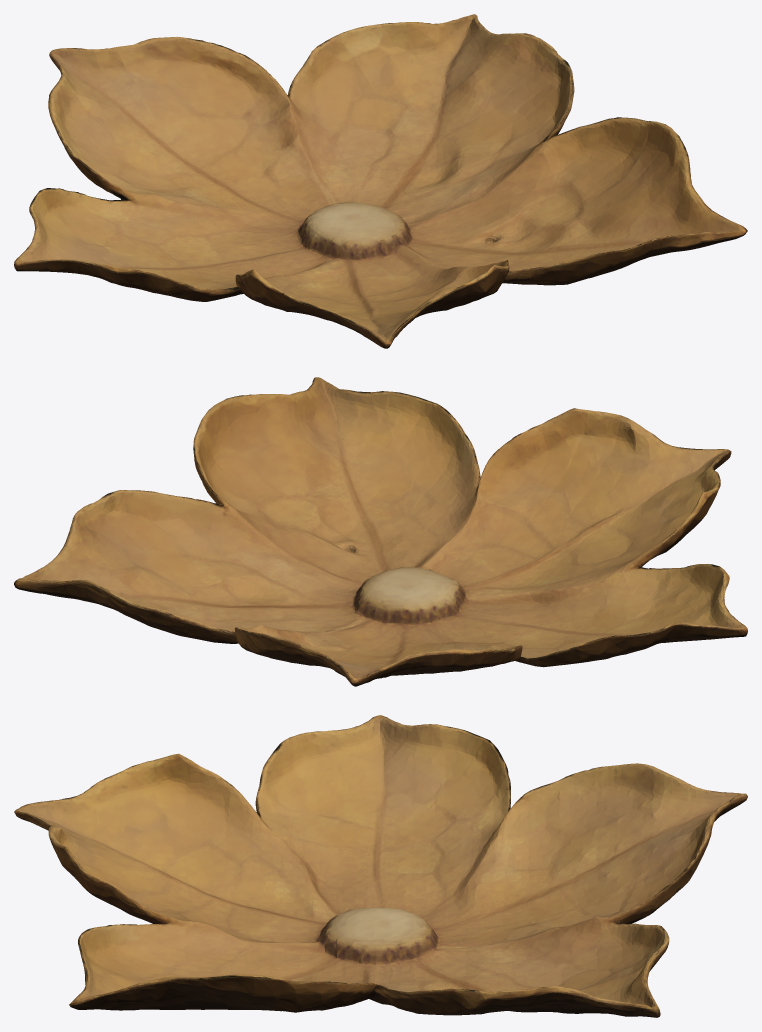
3 views of the same model, one above another, from view 1: azimuth 30°, elevation 25°; view 2: azimuth 150°, elevation 25°; view 3: azimuth 270°, elevation 25° (orthographic). The views are drawn at different scales.
Visible parts, largest first — view 1: world; view 2: world; view 3: world.
Boxes of the visible parts, box(x1,y1,x2,y2) form: world: box(14, 14, 747, 348); world: box(14, 377, 747, 686); world: box(14, 715, 747, 1017).
Bounding box in the file's own units: 0.9574 × 0.1736 × 0.987.
1 material, 1 textured.
